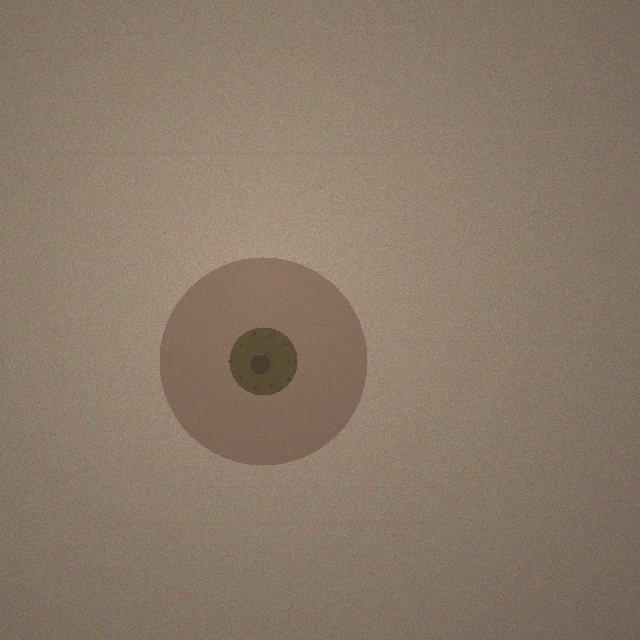cold_weld: (159, 257, 367, 465)
